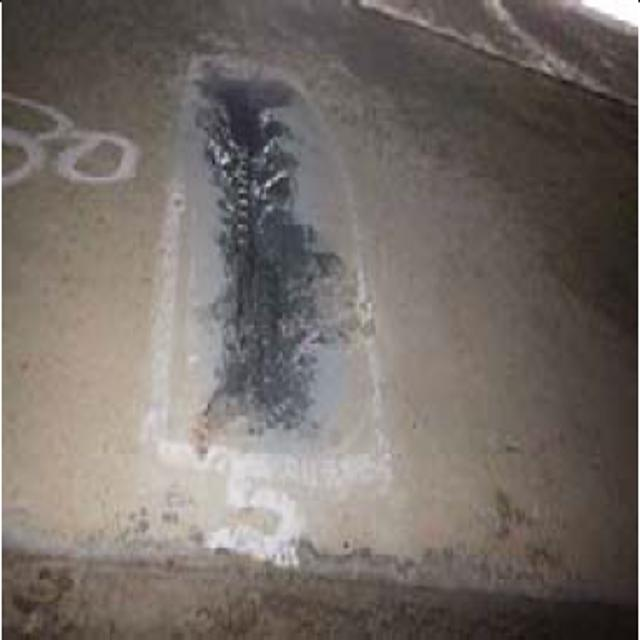spalling: (175, 81, 362, 453)
